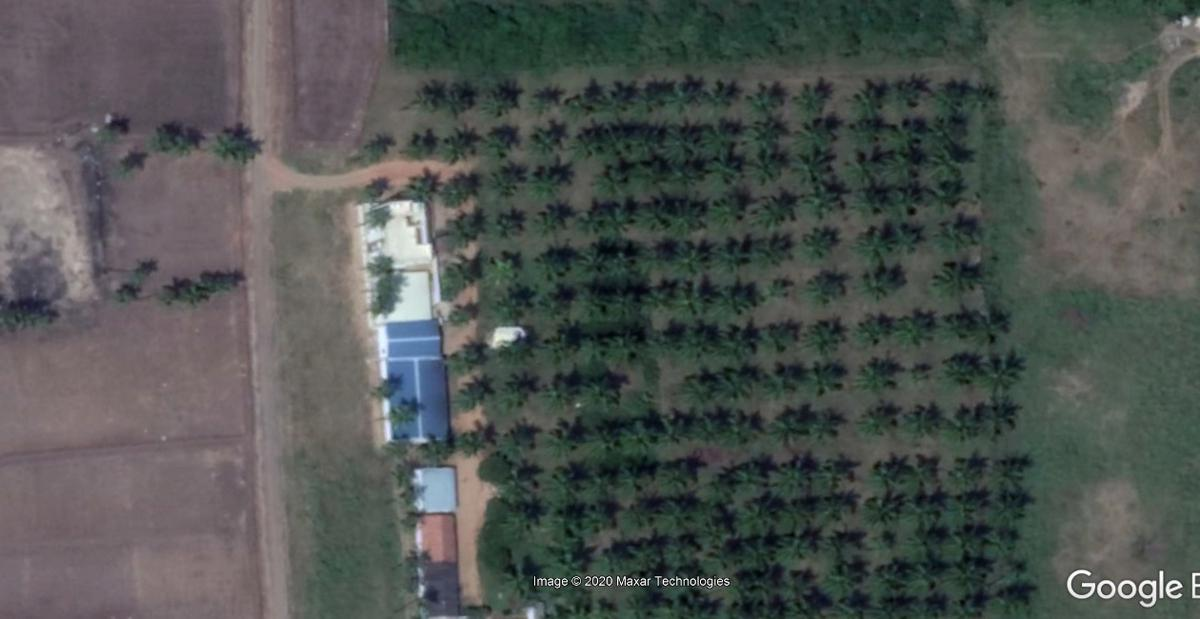coconut: (987, 490, 1034, 536), (923, 259, 981, 294), (556, 536, 602, 580), (732, 570, 778, 613), (952, 488, 990, 539), (947, 552, 990, 597), (861, 262, 911, 300), (666, 241, 712, 282), (579, 246, 628, 284), (442, 166, 485, 208), (937, 307, 981, 348), (977, 399, 1022, 439), (669, 195, 711, 237), (887, 173, 927, 217), (756, 190, 798, 231), (616, 123, 660, 162), (988, 343, 1023, 392), (743, 82, 791, 117), (774, 565, 814, 607), (583, 367, 621, 411), (745, 119, 786, 159), (482, 74, 525, 112), (717, 371, 761, 408), (907, 553, 943, 598), (589, 417, 629, 457), (809, 317, 847, 359), (591, 196, 628, 239), (801, 221, 838, 264), (154, 119, 197, 156), (443, 212, 491, 245), (655, 501, 693, 542), (498, 417, 542, 452), (781, 499, 825, 534), (939, 80, 978, 119), (910, 453, 947, 494), (793, 119, 829, 161), (675, 364, 711, 406), (989, 584, 1032, 619), (809, 399, 843, 443), (763, 364, 801, 403), (633, 409, 671, 448), (594, 82, 634, 119), (723, 327, 760, 367), (827, 557, 864, 597), (806, 177, 842, 218), (493, 566, 537, 599), (717, 240, 755, 278), (895, 311, 933, 349), (632, 194, 671, 231), (542, 199, 578, 239), (929, 169, 965, 209), (852, 78, 887, 119), (945, 350, 980, 391), (873, 463, 914, 498), (656, 457, 698, 491), (883, 225, 927, 257), (900, 403, 938, 440), (510, 457, 546, 496), (861, 496, 901, 531), (707, 121, 740, 163), (805, 267, 842, 304), (852, 179, 887, 218), (850, 221, 884, 261), (602, 325, 642, 359), (614, 462, 648, 502), (913, 495, 947, 535), (847, 118, 888, 151), (793, 78, 829, 115), (859, 358, 895, 395), (824, 447, 851, 496), (805, 362, 845, 395), (777, 408, 809, 449), (709, 191, 745, 227), (856, 409, 892, 445), (732, 459, 768, 495), (552, 463, 589, 498), (574, 125, 609, 162), (675, 321, 709, 359), (859, 317, 893, 355), (782, 457, 816, 495), (873, 553, 904, 594), (550, 417, 580, 459), (666, 121, 694, 166), (402, 79, 435, 117), (494, 376, 533, 408), (897, 73, 932, 108), (540, 372, 576, 406), (675, 285, 711, 319), (738, 502, 771, 539), (440, 81, 475, 115), (444, 128, 479, 162), (510, 502, 544, 537), (952, 455, 987, 489), (586, 498, 615, 539), (484, 123, 520, 156), (898, 119, 931, 155), (997, 452, 1029, 489), (761, 273, 798, 305), (664, 77, 702, 108), (529, 123, 565, 155), (757, 236, 793, 268), (446, 336, 483, 367), (982, 302, 1013, 339), (763, 318, 796, 352), (453, 378, 485, 413), (747, 155, 784, 185), (639, 282, 673, 314), (542, 245, 571, 282), (645, 322, 674, 359), (687, 413, 720, 445), (213, 131, 248, 161), (448, 255, 484, 284), (406, 127, 438, 159), (497, 204, 529, 236), (546, 327, 579, 358), (705, 536, 740, 565), (942, 219, 975, 249), (534, 167, 570, 194), (947, 400, 973, 437), (502, 330, 532, 362), (709, 80, 740, 110), (498, 289, 529, 319), (116, 147, 148, 176), (680, 590, 711, 619), (529, 82, 561, 110), (594, 166, 629, 191), (405, 168, 433, 199), (564, 91, 593, 120), (730, 286, 761, 313), (460, 430, 488, 459), (551, 508, 580, 536), (497, 164, 521, 195), (632, 590, 656, 619), (455, 300, 480, 327), (500, 250, 528, 273), (535, 295, 565, 314)
